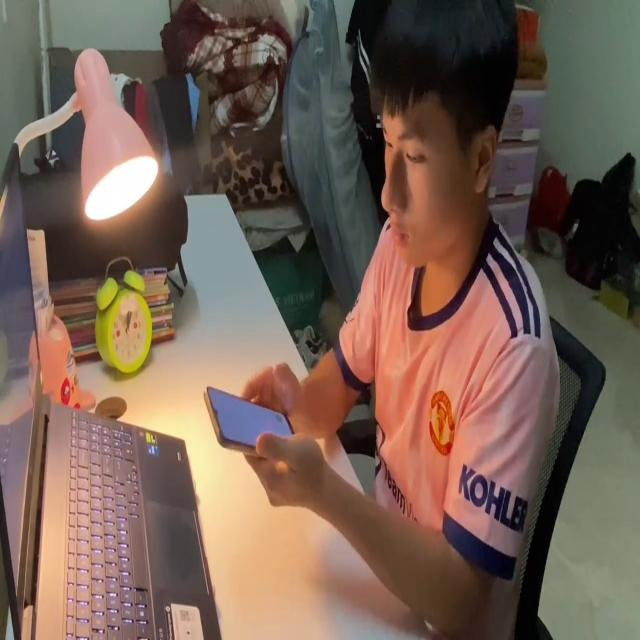laptop: (0, 139, 222, 640)
phone: (202, 380, 303, 459)
student: (236, 0, 559, 640)
